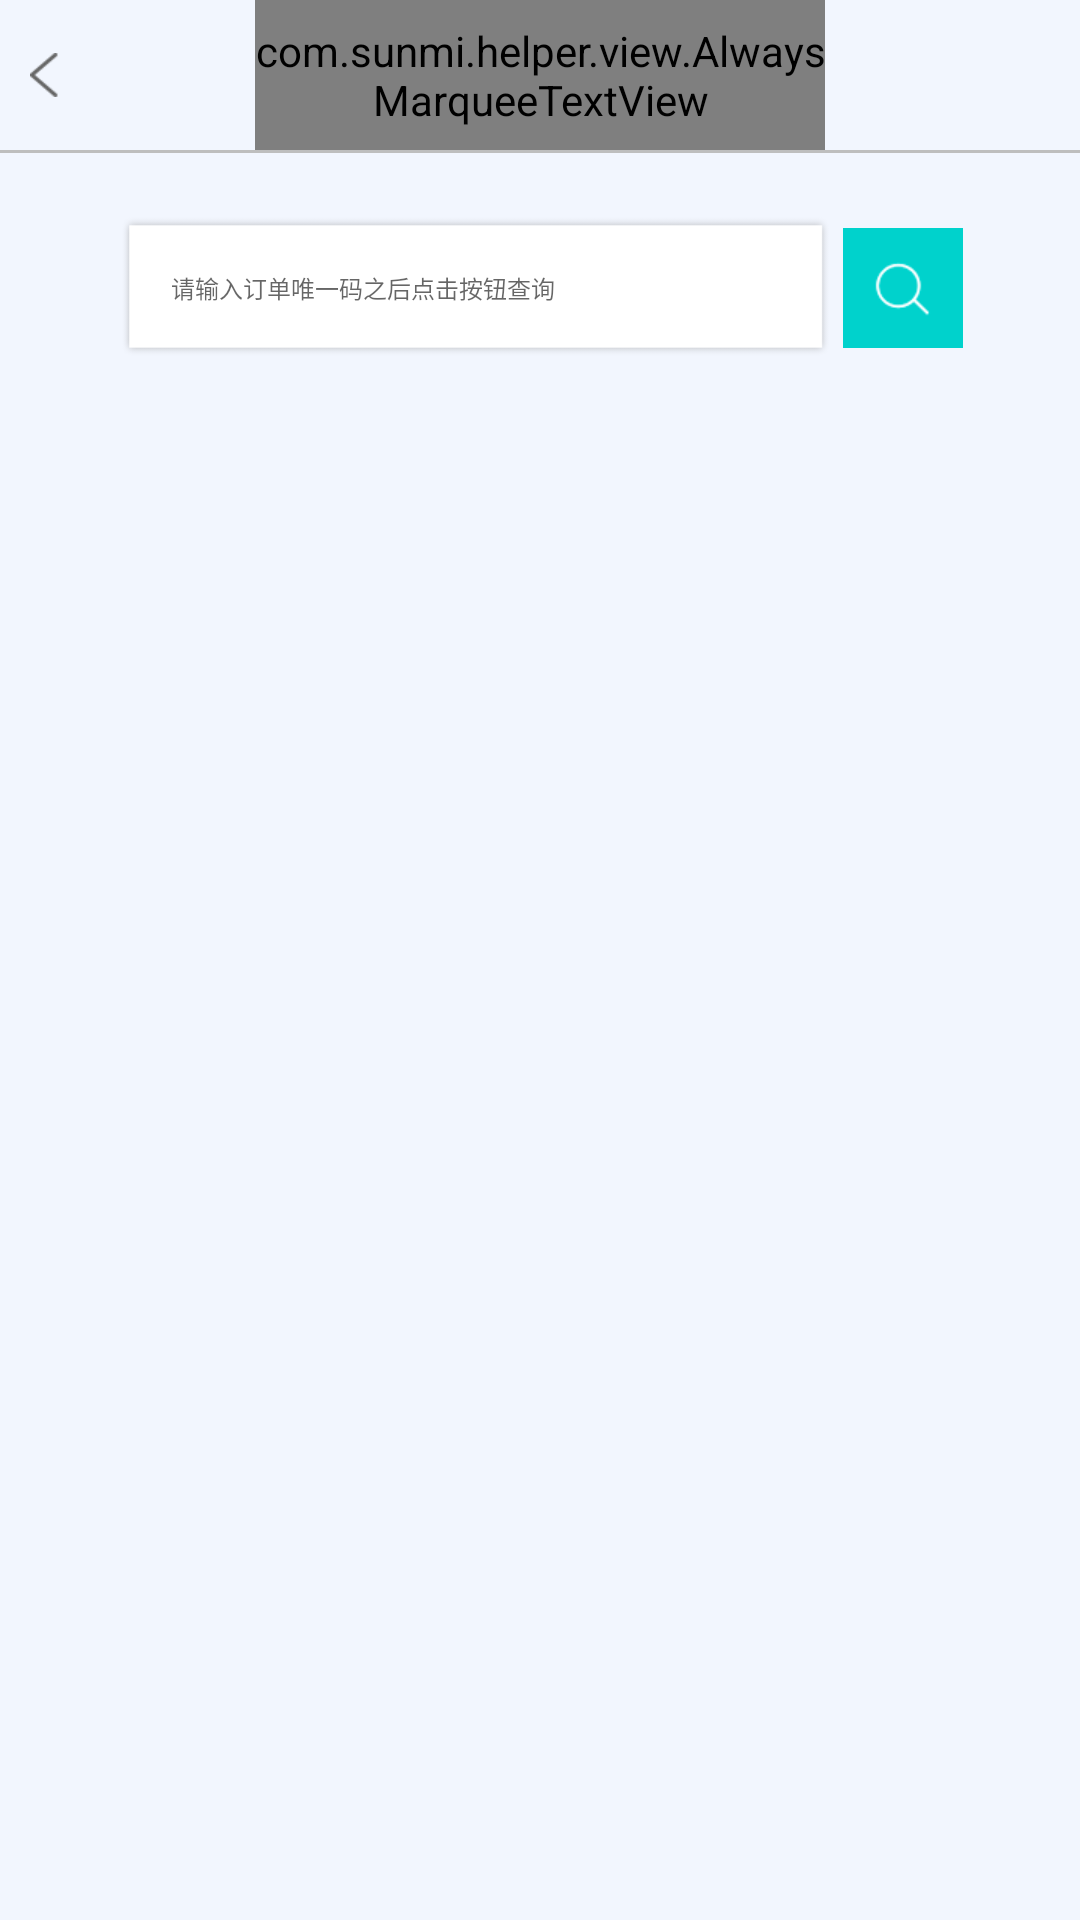

Screen size 1080*1920. Icon name, then its box in pixels as (x1, y1, x2, y2):
prosale back: (30, 53, 58, 97)
